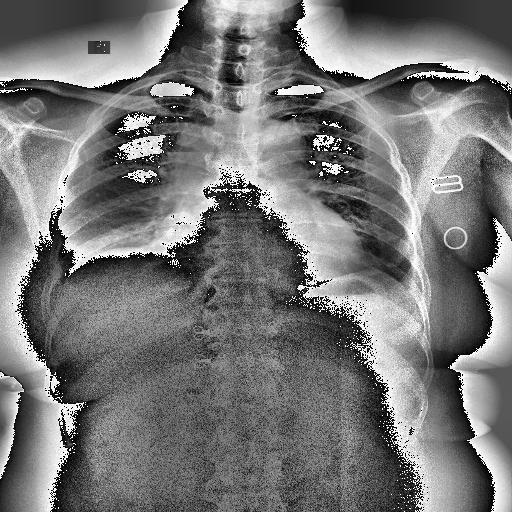0- Aortic enlargement: (231, 114, 308, 182), (244, 116, 308, 172)
3- Cardiomegaly: (146, 204, 363, 276), (152, 220, 364, 280), (148, 227, 365, 271)
